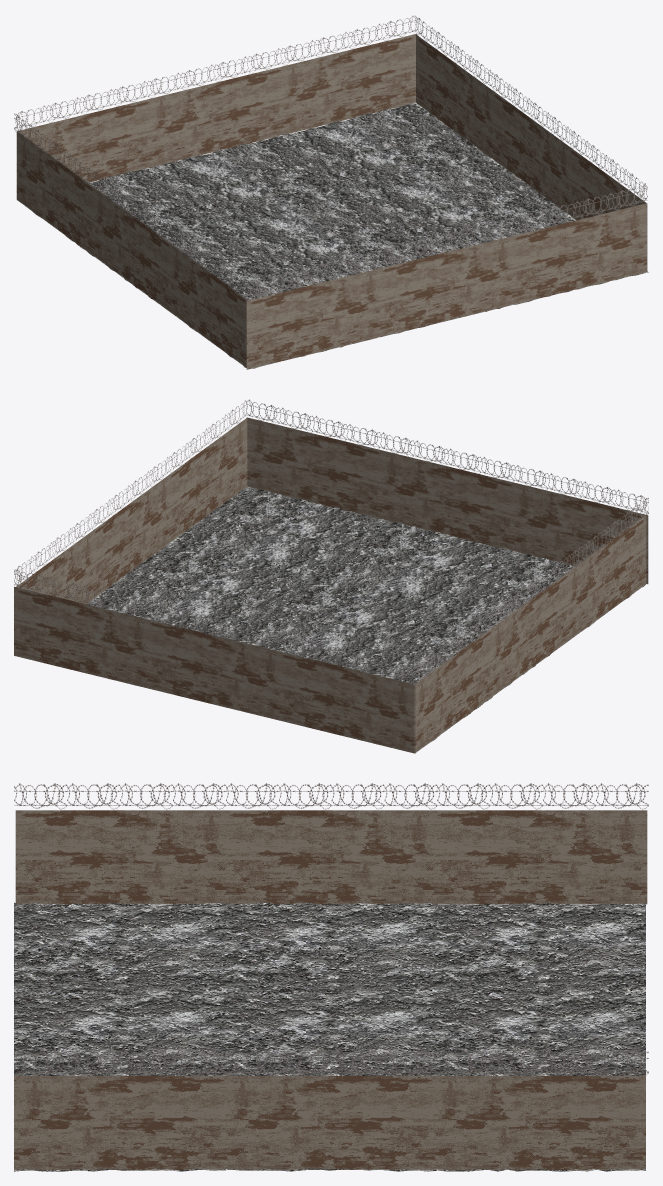
File: scene_ground.glb
The picture shows the model from 3 angles, top to bottom: view 1: azimuth 30°, elevation 25°; view 2: azimuth 150°, elevation 25°; view 3: azimuth 270°, elevation 25°; orthographic projection. The views are drawn at different scales.
Parts seen in each view (by area): view 1: Plane.001, Plane.004, Plane.003, Plane.005, Plane.002, barb_wire.003, barb_wire.004, barb_wire, barb_wire.002; view 2: Plane.001, Plane.003, Plane.004, Plane.005, Plane.002, barb_wire.004, barb_wire.003, barb_wire, barb_wire.002; view 3: Plane.001, Plane.005, Plane.002, barb_wire, barb_wire.002.
Boxes of the visible parts, bbox=[...] form: Plane.001: bbox=[17, 102, 648, 368]; Plane.004: bbox=[246, 203, 646, 369]; Plane.003: bbox=[16, 33, 417, 199]; Plane.005: bbox=[17, 131, 247, 367]; Plane.002: bbox=[416, 34, 647, 271]; barb_wire.003: bbox=[14, 15, 416, 130]; barb_wire.004: bbox=[245, 185, 647, 300]; barb_wire: bbox=[14, 113, 246, 297]; barb_wire.002: bbox=[415, 15, 647, 199]; Plane.001: bbox=[87, 486, 646, 751]; Plane.003: bbox=[14, 586, 415, 753]; Plane.004: bbox=[246, 417, 648, 584]; Plane.005: bbox=[414, 515, 646, 753]; Plane.002: bbox=[16, 417, 247, 604]; barb_wire.004: bbox=[246, 399, 648, 515]; barb_wire.003: bbox=[14, 569, 417, 684]; barb_wire: bbox=[416, 498, 648, 684]; barb_wire.002: bbox=[14, 400, 246, 586]; Plane.001: bbox=[14, 902, 645, 1171]; Plane.005: bbox=[15, 810, 647, 904]; Plane.002: bbox=[14, 1076, 645, 1169]; barb_wire: bbox=[14, 783, 648, 809]; barb_wire.002: bbox=[14, 1050, 648, 1076].
Size of the model in its own units: 40.23 by 8.43 by 40.2.
Materials: 7 (7 with a texture image).
